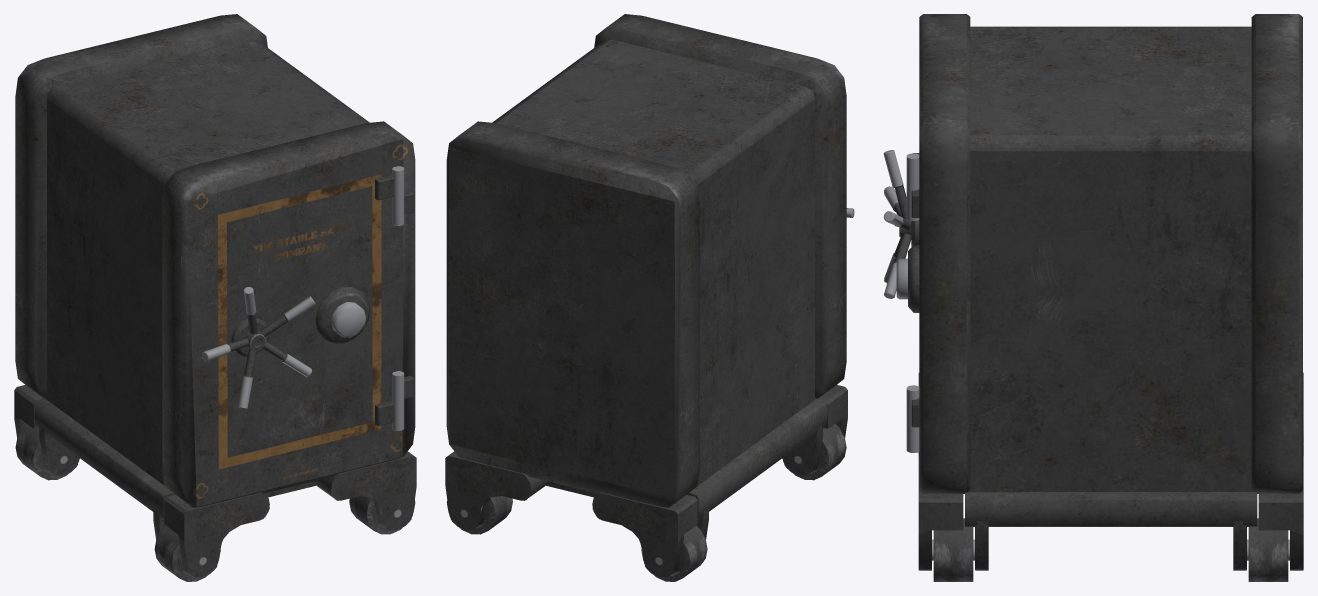
The model's file is safe_iron.glb.
The picture shows the model from 3 angles, left to right: view 1: azimuth 30°, elevation 25°; view 2: azimuth 150°, elevation 25°; view 3: azimuth 270°, elevation 25°; orthographic projection. The views are drawn at different scales.
Visible parts, largest first — view 1: Safe_LP_M_SafeFrontPanel_0; view 2: Safe_LP_M_SafeFrontPanel_0; view 3: Safe_LP_M_SafeFrontPanel_0.
Boxes of the visible parts, bbox=[...] form: Safe_LP_M_SafeFrontPanel_0: bbox=[14, 14, 416, 581]; Safe_LP_M_SafeFrontPanel_0: bbox=[445, 14, 854, 581]; Safe_LP_M_SafeFrontPanel_0: bbox=[883, 14, 1303, 581].
Bounding box in the file's own units: 0.6219 × 0.9836 × 0.8208.
1 material, 1 textured.
